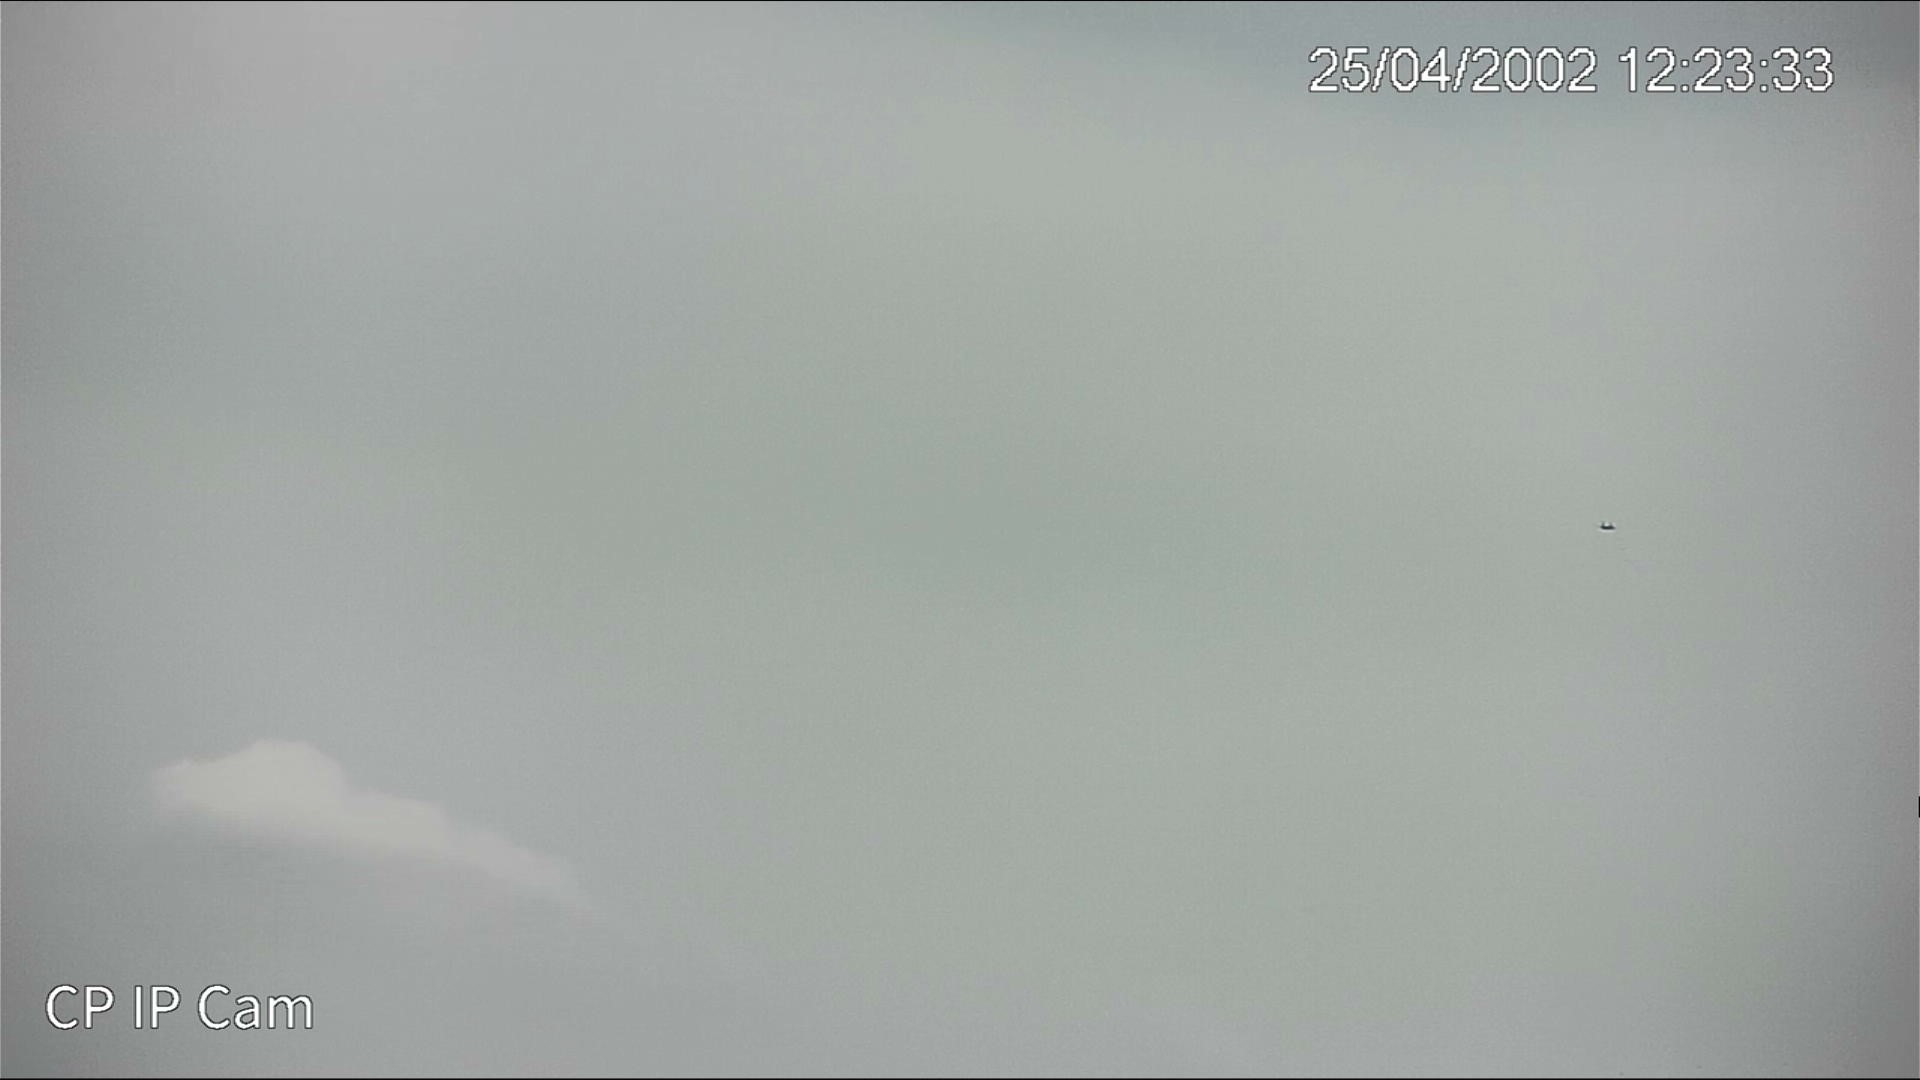SU_30: (1600, 518, 1618, 531)
